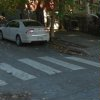crosswalk: (0, 55, 99, 87)
